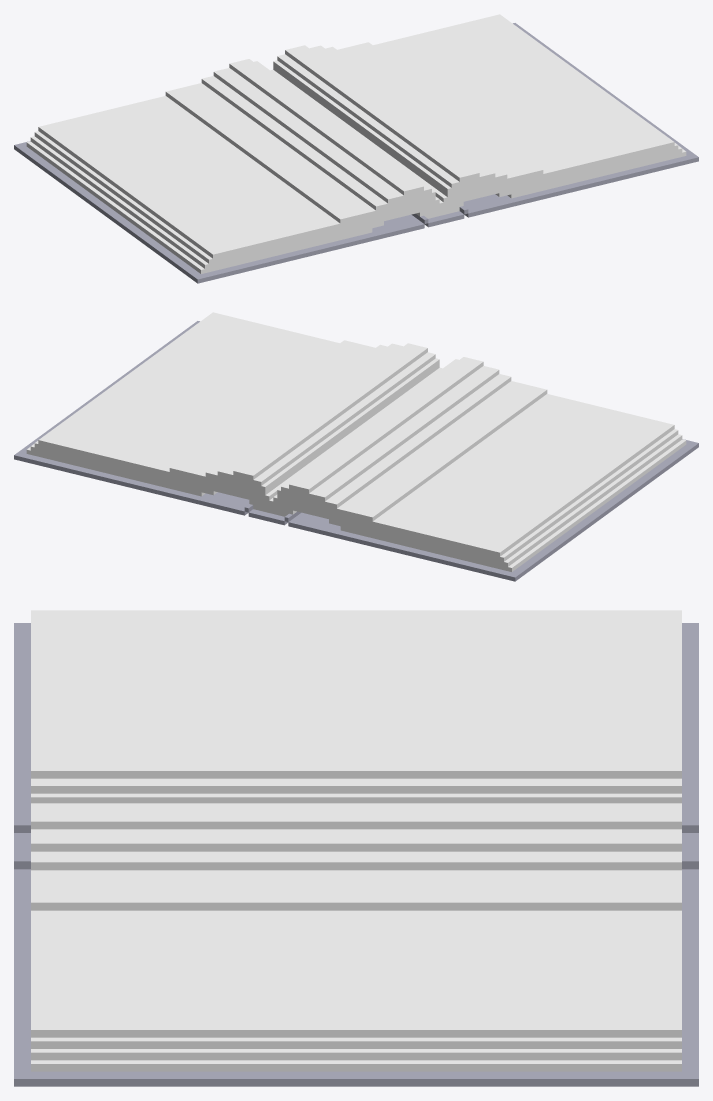
The model's file is Book1-3.fbx.
3 renders of one model, top to bottom at view 1: azimuth 30°, elevation 25°; view 2: azimuth 150°, elevation 25°; view 3: azimuth 270°, elevation 25°, orthographic. The views are drawn at different scales.
Parts seen in each view (by area): view 1: Book1-3; view 2: Book1-3; view 3: Book1-3.
Boxes of the visible parts, box(x1,y1,x2,y2) form: Book1-3: box(14, 14, 698, 283); Book1-3: box(14, 312, 698, 581); Book1-3: box(14, 610, 698, 1086).
Bounding box in the file's own units: 12.6 × 0.9 × 8.
